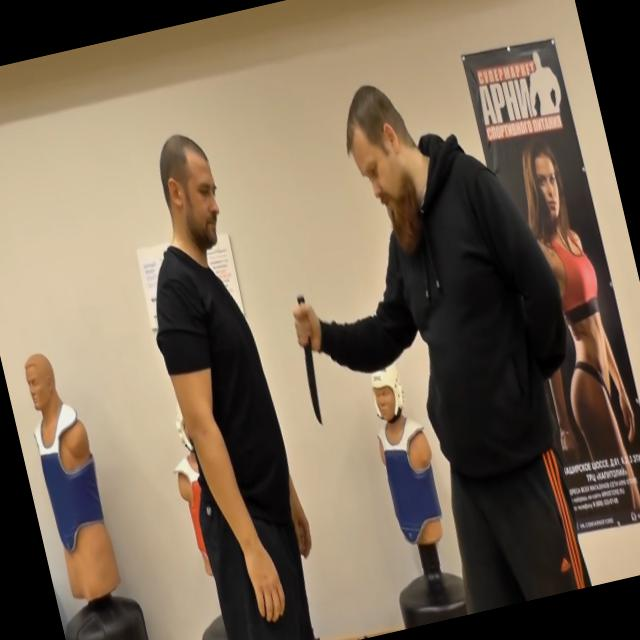knife: (282, 286, 336, 431)
